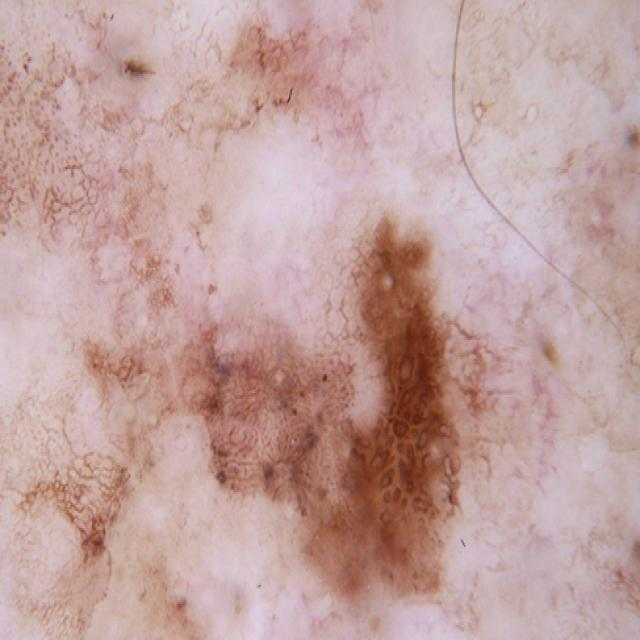Keratosis: (152, 174, 557, 640), (0, 16, 326, 445), (72, 404, 463, 640), (275, 52, 521, 408)
